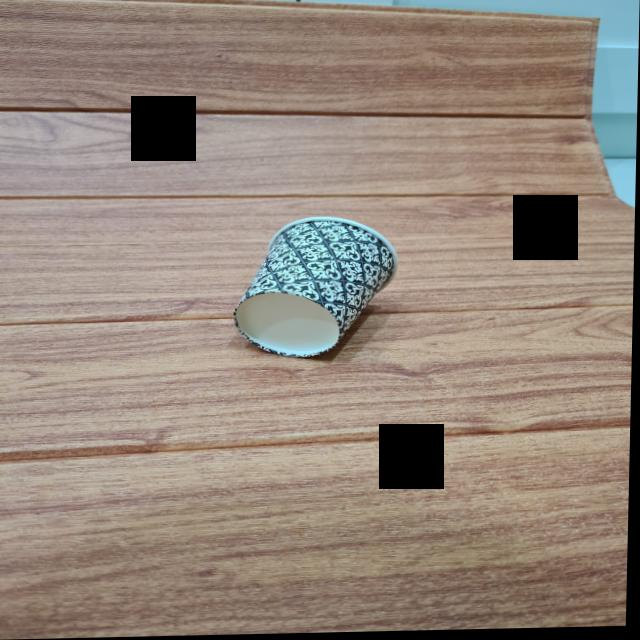cups: (228, 215, 407, 361)
